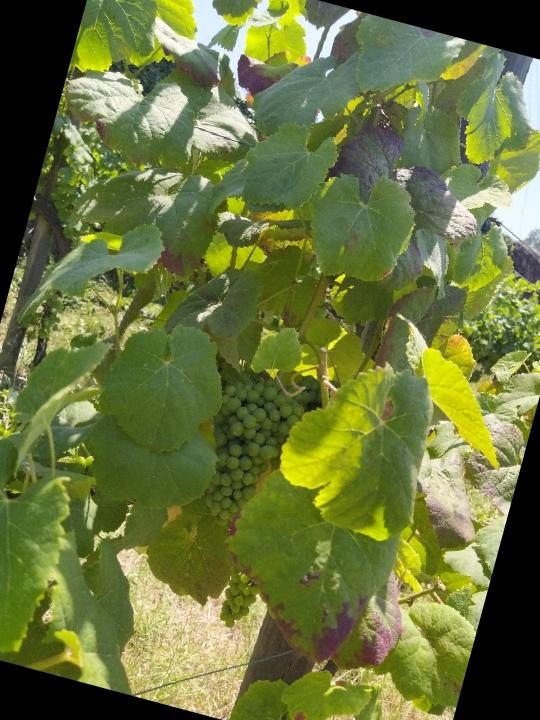grape: (181, 361, 315, 542)
